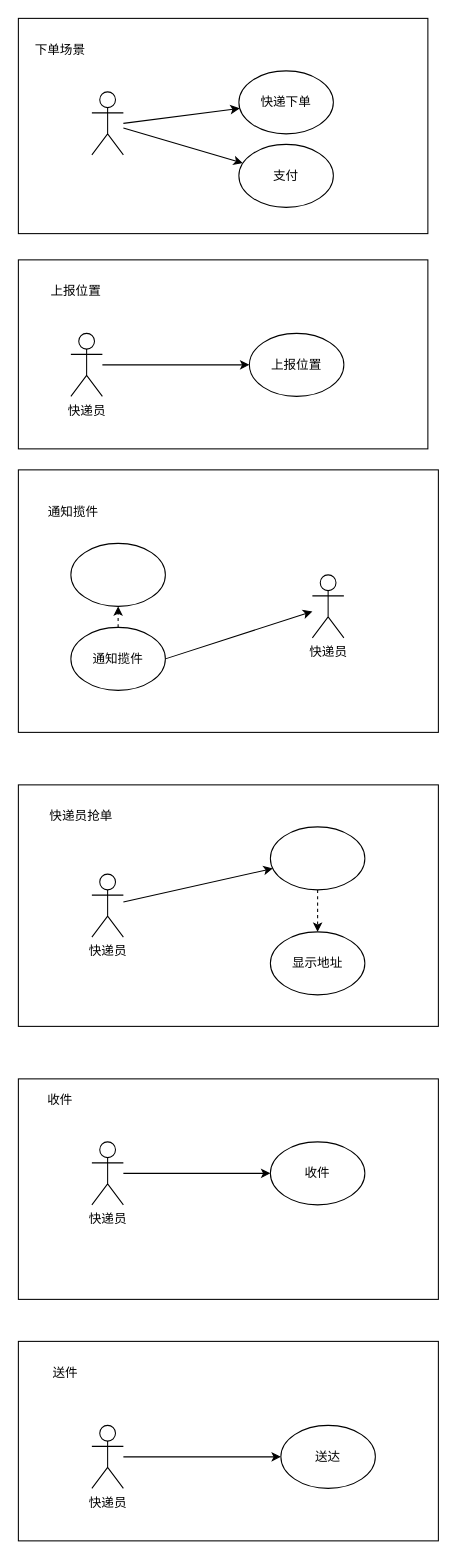
This 457x1559 diagram has some shape labels left out. The centre of each missing label's shape, as x and y in pixels:
"抢单" belongs at point 317,858.
"用户" belongs at point 107,123.
"锁定快递员范围" belongs at point 117,574.
